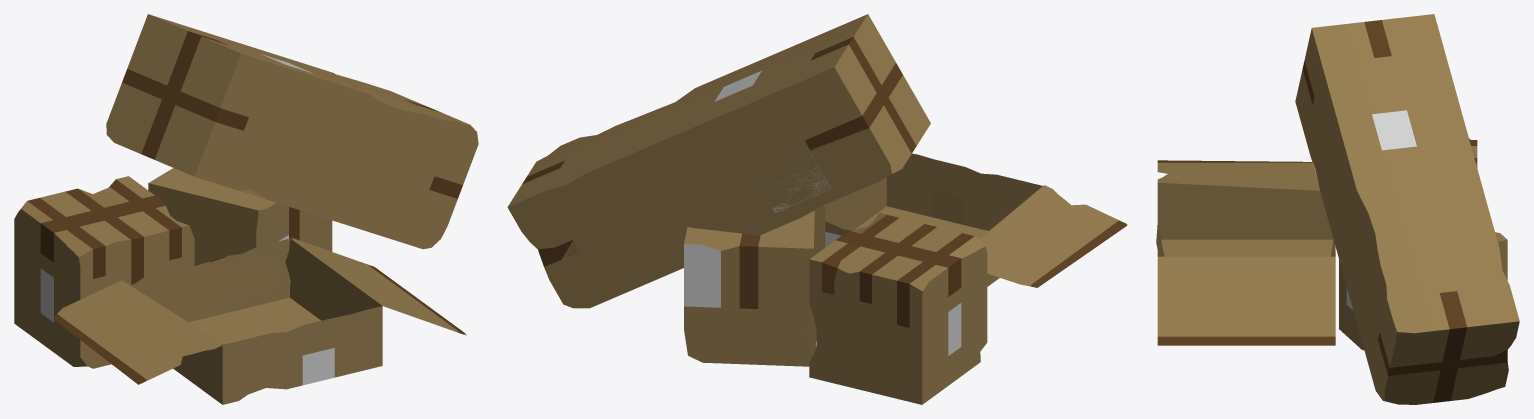
Rendered from CardboardBoxes1.fbx.
3 renders of one model, left to right at view 1: azimuth 30°, elevation 25°; view 2: azimuth 150°, elevation 25°; view 3: azimuth 270°, elevation 25°, orthographic. The views are drawn at different scales.
Visible parts, largest first — view 1: Cube.005; view 2: Cube.005; view 3: Cube.005.
Boxes of the visible parts, x1,y1,x2,y2 form: Cube.005: [14, 14, 478, 404]; Cube.005: [507, 14, 1127, 404]; Cube.005: [1156, 14, 1519, 404].
Bounding box in the file's own units: 144 × 88.53 × 102.
